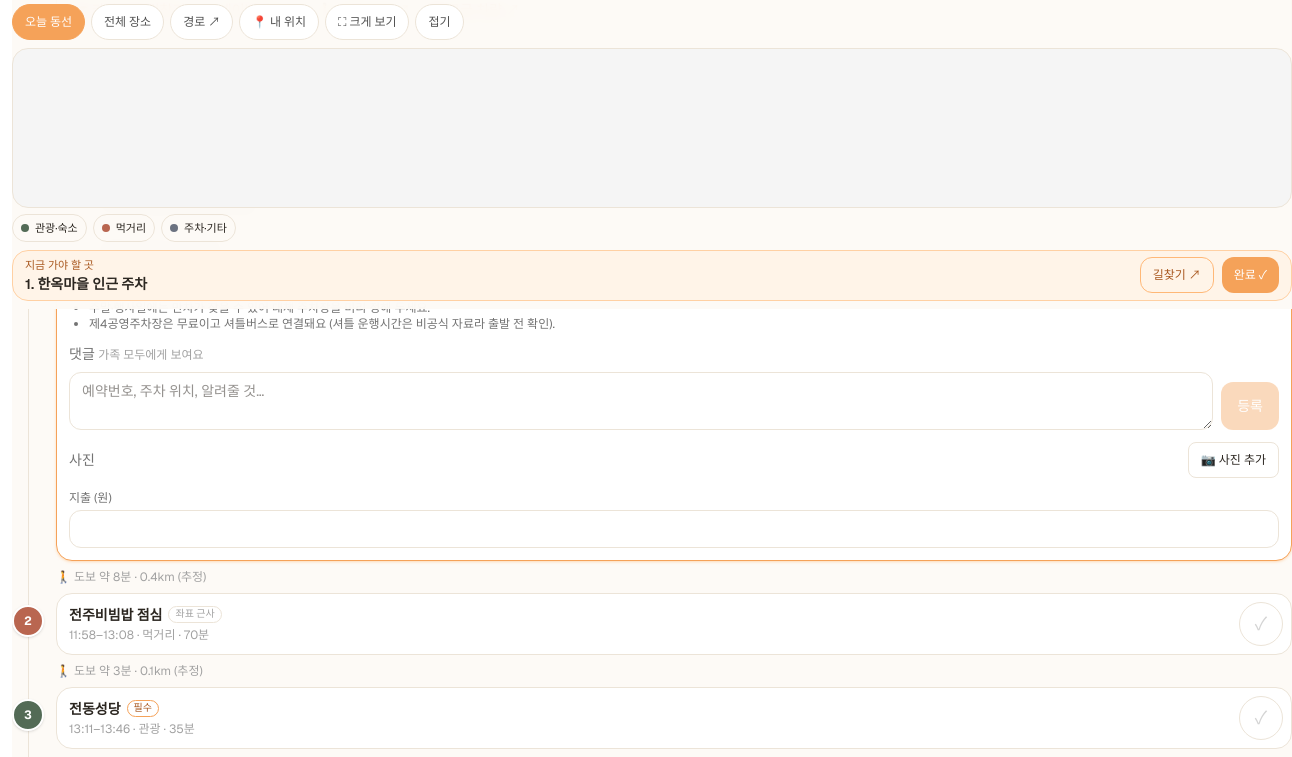
Test: 댓글/지출 입력 › 저장에 실패하면 댓글이 사라지고 오류를 알린다
The width and height of the screenshot is (1292, 757).
(page scrolled)
Step 1. Type "곧 사라질 글" into the text box with placeholder "예약번호, 주차 위치, 알려줄 것…" → (641, 400), box [69,372,1213,430]
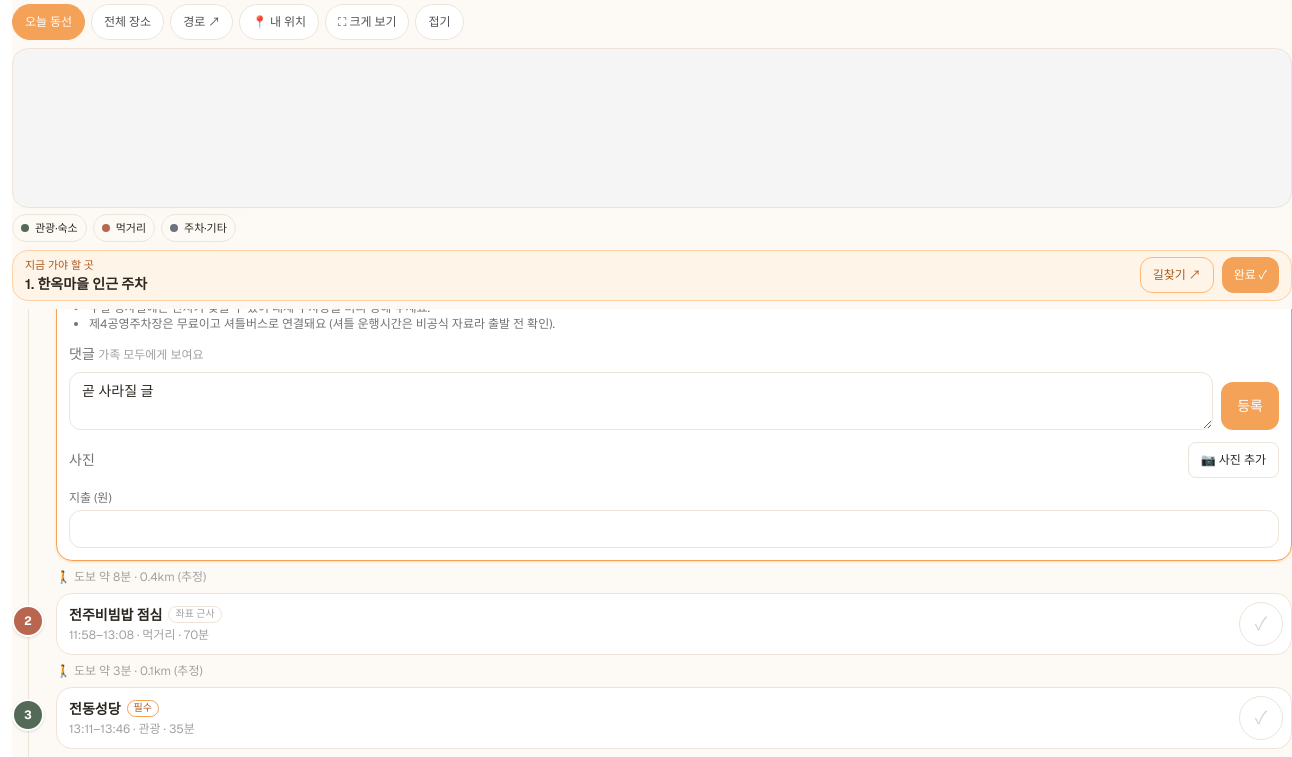
Step 2. Click the button "등록" → (1250, 406), box [1221,382,1279,430]
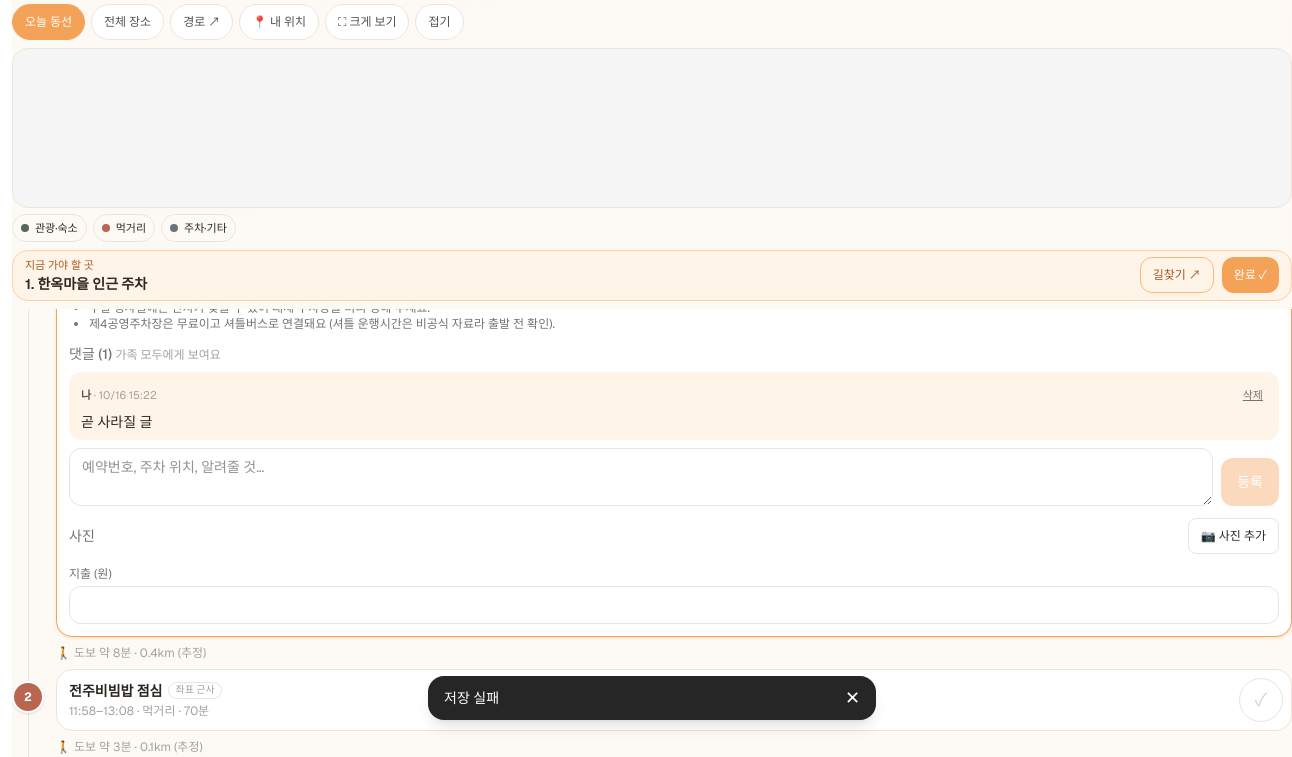
Expected: the message shows "저장 실패", [444,689,499,707]
